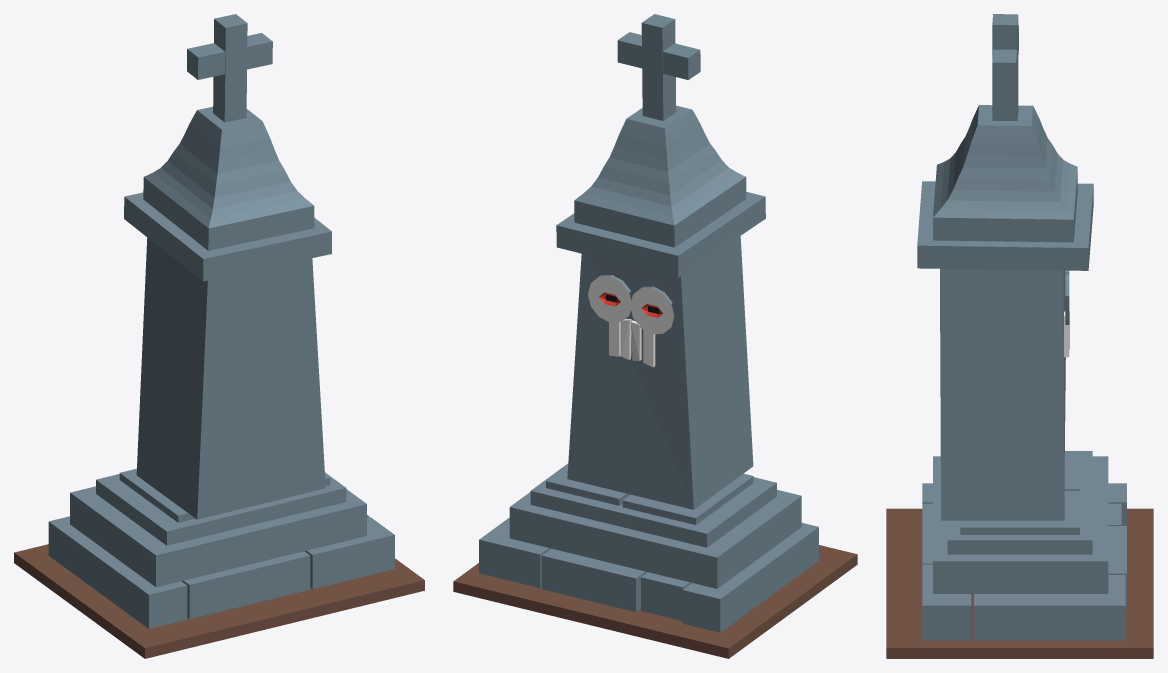
Rendered from Gravestone.glb.
3 views of the same model, side by side, from view 1: azimuth 30°, elevation 25°; view 2: azimuth 150°, elevation 25°; view 3: azimuth 270°, elevation 25° (orthographic). The views are drawn at different scales.
Visible parts, largest first — view 1: Node; view 2: Node; view 3: Node.
Part boxes in pixels (box(x1,y1,x2,y2)): Node: box(14, 14, 424, 658); Node: box(453, 14, 857, 658); Node: box(886, 14, 1153, 658).
Size of the model in its own units: 2.48 by 4.75 by 2.01.
